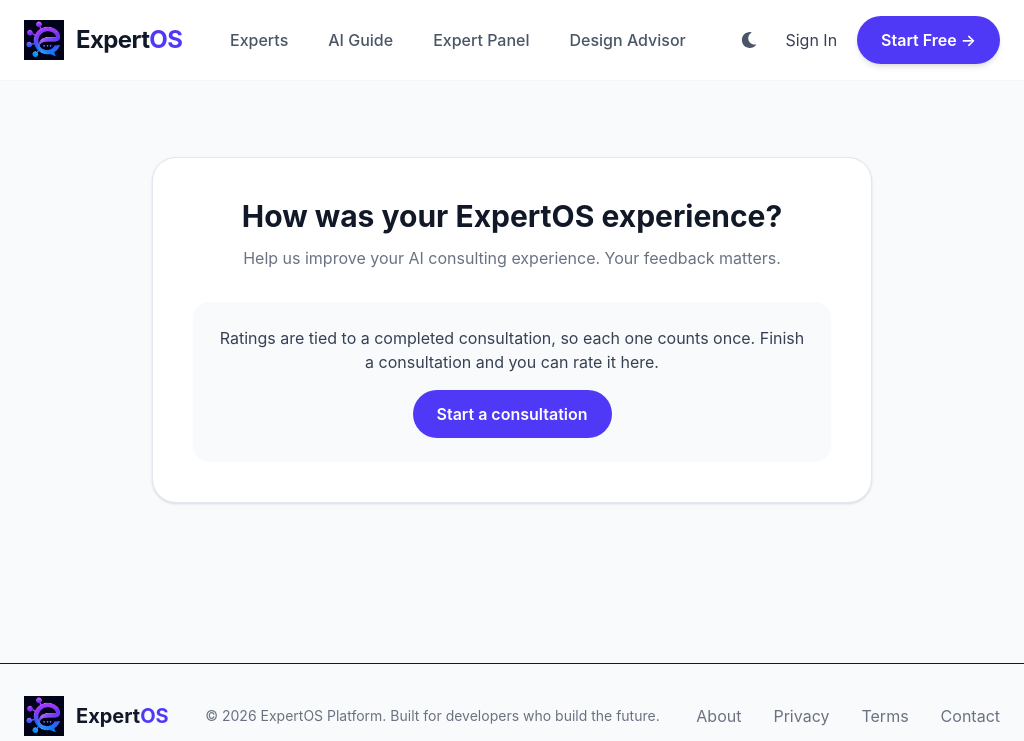
Test case: Routing and navigation › footer link Contact opens its page
(page scrolled)
What coordinates should you click on to do the following:
click the link "Contact"
I would click on:
 (970, 716)
Its box is [941, 704, 1000, 728].
(page scrolled)
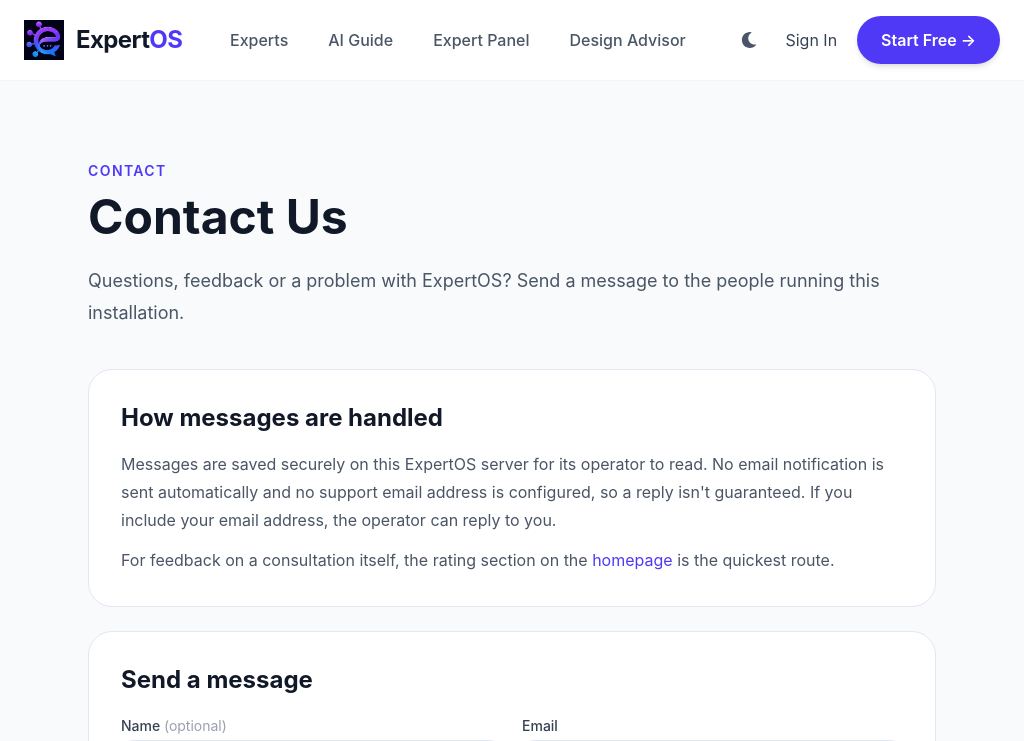
Check: the heading "Contact Us" is shown, box [88, 187, 348, 246]
